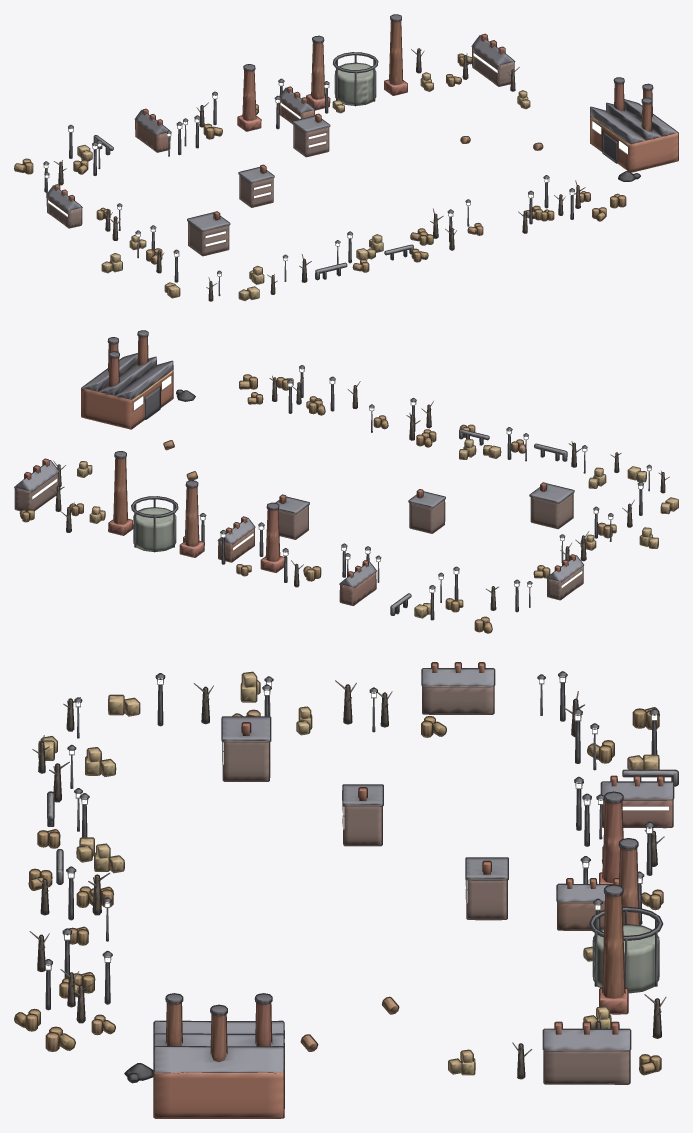
The model's file is smog_city.glb.
The picture shows the model from 3 angles, top to bottom: view 1: azimuth 30°, elevation 25°; view 2: azimuth 150°, elevation 25°; view 3: azimuth 270°, elevation 25°; orthographic projection. The views are drawn at different scales.
Visible parts, largest first — view 1: Baked_matte, Baked_matte_Outline, Baked_metal, Baked_metal_Outline, Baked_glow_ffe09f, Baked_glow_ffe4a9_Outline; view 2: Baked_matte, Baked_matte_Outline, Baked_metal, Baked_metal_Outline, Baked_glow_ffe4a9_Outline; view 3: Baked_matte, Baked_matte_Outline, Baked_metal, Baked_metal_Outline, Baked_glow_ffe4a9, Baked_glow_ffe4a9_Outline.
Boxes of the visible parts, <box> form: Baked_matte: <box>14,20,678,300</box>; Baked_matte_Outline: <box>14,21,678,301</box>; Baked_metal: <box>44,15,652,296</box>; Baked_metal_Outline: <box>43,14,653,282</box>; Baked_glow_ffe09f: <box>48,53,497,246</box>; Baked_glow_ffe4a9_Outline: <box>43,79,574,276</box>; Baked_matte: <box>15,336,678,632</box>; Baked_matte_Outline: <box>14,336,678,633</box>; Baked_metal: <box>108,331,650,619</box>; Baked_metal_Outline: <box>107,330,651,620</box>; Baked_glow_ffe4a9_Outline: <box>200,366,651,592</box>; Baked_matte: <box>15,663,672,1117</box>; Baked_matte_Outline: <box>14,662,674,1118</box>; Baked_metal: <box>45,672,677,1015</box>; Baked_metal_Outline: <box>43,671,678,1016</box>; Baked_glow_ffe4a9: <box>46,676,656,969</box>; Baked_glow_ffe4a9_Outline: <box>44,673,658,970</box>.
Size of the model in its own units: 40.99 by 5.55 by 26.79.
